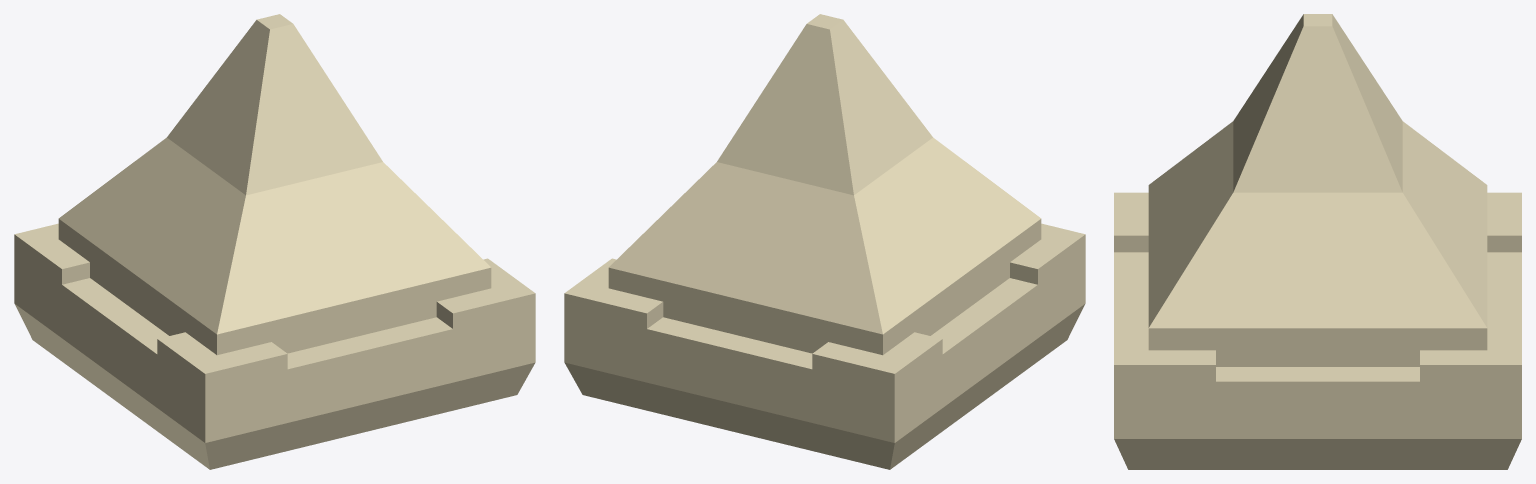
File: towersquaretoproof.glb
3 renders of one model, left to right at view 1: azimuth 30°, elevation 25°; view 2: azimuth 150°, elevation 25°; view 3: azimuth 270°, elevation 25°, orthographic. The views are drawn at different scales.
Parts seen in each view (by area): view 1: towerSquareTopRoof; view 2: towerSquareTopRoof; view 3: towerSquareTopRoof.
Part boxes in pixels (x1,y1,x2,y2): towerSquareTopRoof: [14, 14, 535, 469]; towerSquareTopRoof: [564, 14, 1085, 469]; towerSquareTopRoof: [1114, 14, 1521, 469].
Bounding box in the file's own units: 10 × 10 × 10.
